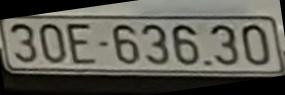-: (98, 40, 110, 47)
.: (204, 58, 214, 67)
0: (242, 24, 271, 65), (39, 22, 67, 62)
3: (142, 22, 169, 65), (9, 23, 36, 65), (212, 25, 239, 67)
6: (112, 22, 140, 64), (173, 23, 199, 64)
E: (68, 23, 97, 65)
